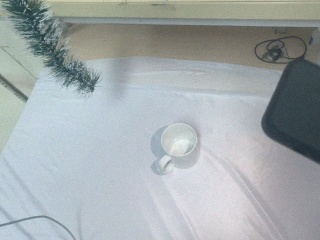cup: (148, 121, 202, 176)
phone: (259, 56, 320, 173)
